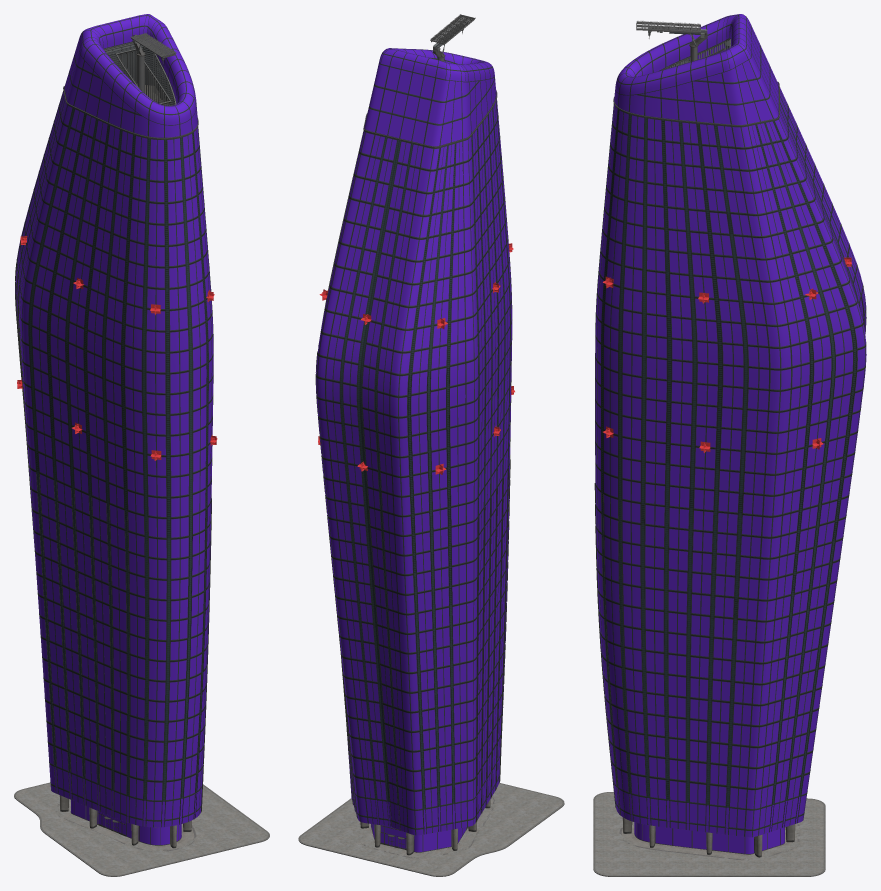
Rendered from One_Blackfairs_Skyscraper.obj.
3 renders of one model, left to right at view 1: azimuth 30°, elevation 25°; view 2: azimuth 150°, elevation 25°; view 3: azimuth 270°, elevation 25°, orthographic. The views are drawn at different scales.
Visible parts, largest first — view 1: Glass_Generic, Building_Facade.003, Glass_Generic_More_Opaque, Sidewalk_02, Building_Facade.007, Glass_Generic.001, Building_Facade.006, Top_Piece, Sidewalk_01, Building_Facade.004, Glass_Lobby.002, Building_Maintenance_Unit; view 2: Glass_Generic, Building_Facade.003, Glass_Generic_More_Opaque, Building_Facade.007, Sidewalk_02, Glass_Generic.001, Building_Facade.006, Building_Facade.004, Sidewalk_01, Glass_Lobby.002, Building_Maintenance_Unit; view 3: Glass_Generic, Building_Facade.003, Glass_Generic_More_Opaque, Sidewalk_02, Building_Facade.007, Glass_Generic.001, Building_Facade.006, Glass_Lobby.002, Sidewalk_01, Building_Facade.004, Building_Maintenance_Unit, Concrete_Pillar.
Boxes of the visible parts, x1,y1,x2,y2 form: Glass_Generic: (15, 91, 213, 800); Building_Facade.003: (15, 91, 213, 801); Glass_Generic_More_Opaque: (64, 14, 197, 137); Sidewalk_02: (16, 783, 267, 875); Building_Facade.007: (15, 262, 211, 798); Glass_Generic.001: (49, 764, 201, 827); Building_Facade.006: (63, 14, 198, 139); Top_Piece: (103, 42, 176, 105); Sidewalk_01: (14, 782, 269, 876); Building_Facade.004: (49, 763, 202, 827); Glass_Lobby.002: (71, 800, 181, 844); Building_Maintenance_Unit: (130, 32, 176, 93); Glass_Generic: (316, 99, 512, 809); Building_Facade.003: (316, 101, 512, 810); Glass_Generic_More_Opaque: (364, 48, 496, 146); Building_Facade.007: (315, 343, 510, 808); Sidewalk_02: (300, 783, 562, 875); Glass_Generic.001: (349, 754, 501, 835); Building_Facade.006: (363, 48, 497, 148); Building_Facade.004: (350, 755, 501, 835); Sidewalk_01: (298, 783, 564, 876); Glass_Lobby.002: (371, 824, 466, 852); Building_Maintenance_Unit: (430, 14, 475, 61); Glass_Generic: (595, 88, 866, 808); Building_Facade.003: (595, 90, 866, 809); Glass_Generic_More_Opaque: (614, 14, 778, 124); Sidewalk_02: (595, 792, 823, 875); Building_Facade.007: (594, 296, 864, 804); Glass_Generic.001: (613, 782, 806, 837); Building_Facade.006: (613, 14, 779, 126); Glass_Lobby.002: (634, 822, 784, 853); Sidewalk_01: (593, 792, 825, 876); Building_Facade.004: (612, 780, 806, 837); Building_Maintenance_Unit: (636, 21, 707, 61); Concrete_Pillar: (649, 824, 795, 857).
Bounding box in the file's own units: 38.01 × 170 × 51.99.
